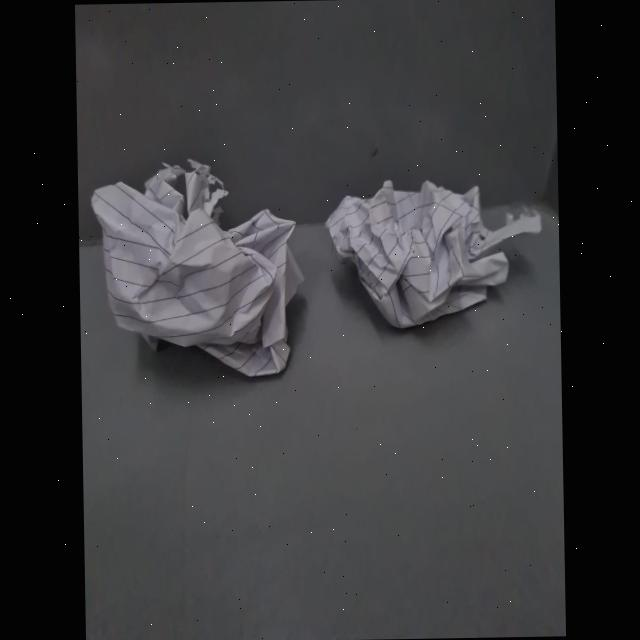trash: (85, 139, 315, 395), (336, 146, 545, 338)
